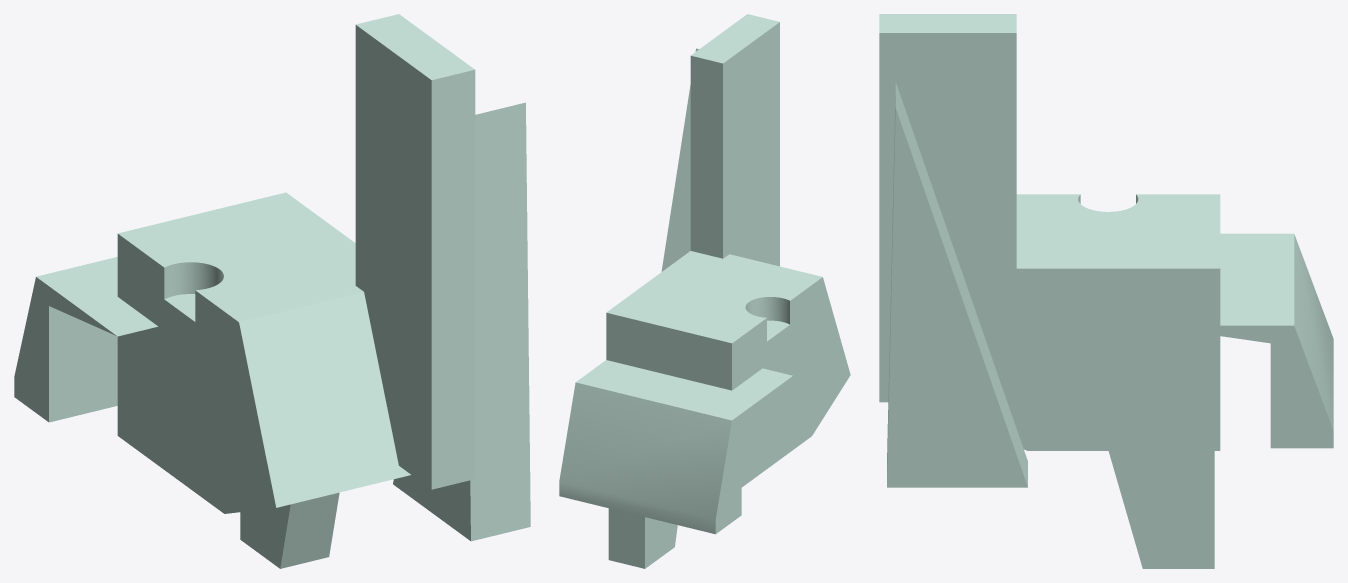
The picture shows the model from 3 angles, left to right: view 1: azimuth 30°, elevation 25°; view 2: azimuth 150°, elevation 25°; view 3: azimuth 270°, elevation 25°; orthographic projection. The views are drawn at different scales.
Parts seen in each view (by area): view 1: Renderer Node; view 2: Renderer Node; view 3: Renderer Node.
Part boxes in pixels (left/top/right/bottom): Renderer Node: left=14, top=14, right=530, bottom=568; Renderer Node: left=559, top=14, right=850, bottom=568; Renderer Node: left=879, top=14, right=1333, bottom=568.
Bounding box in the file's own units: 0.7734 × 1.63 × 1.25.
